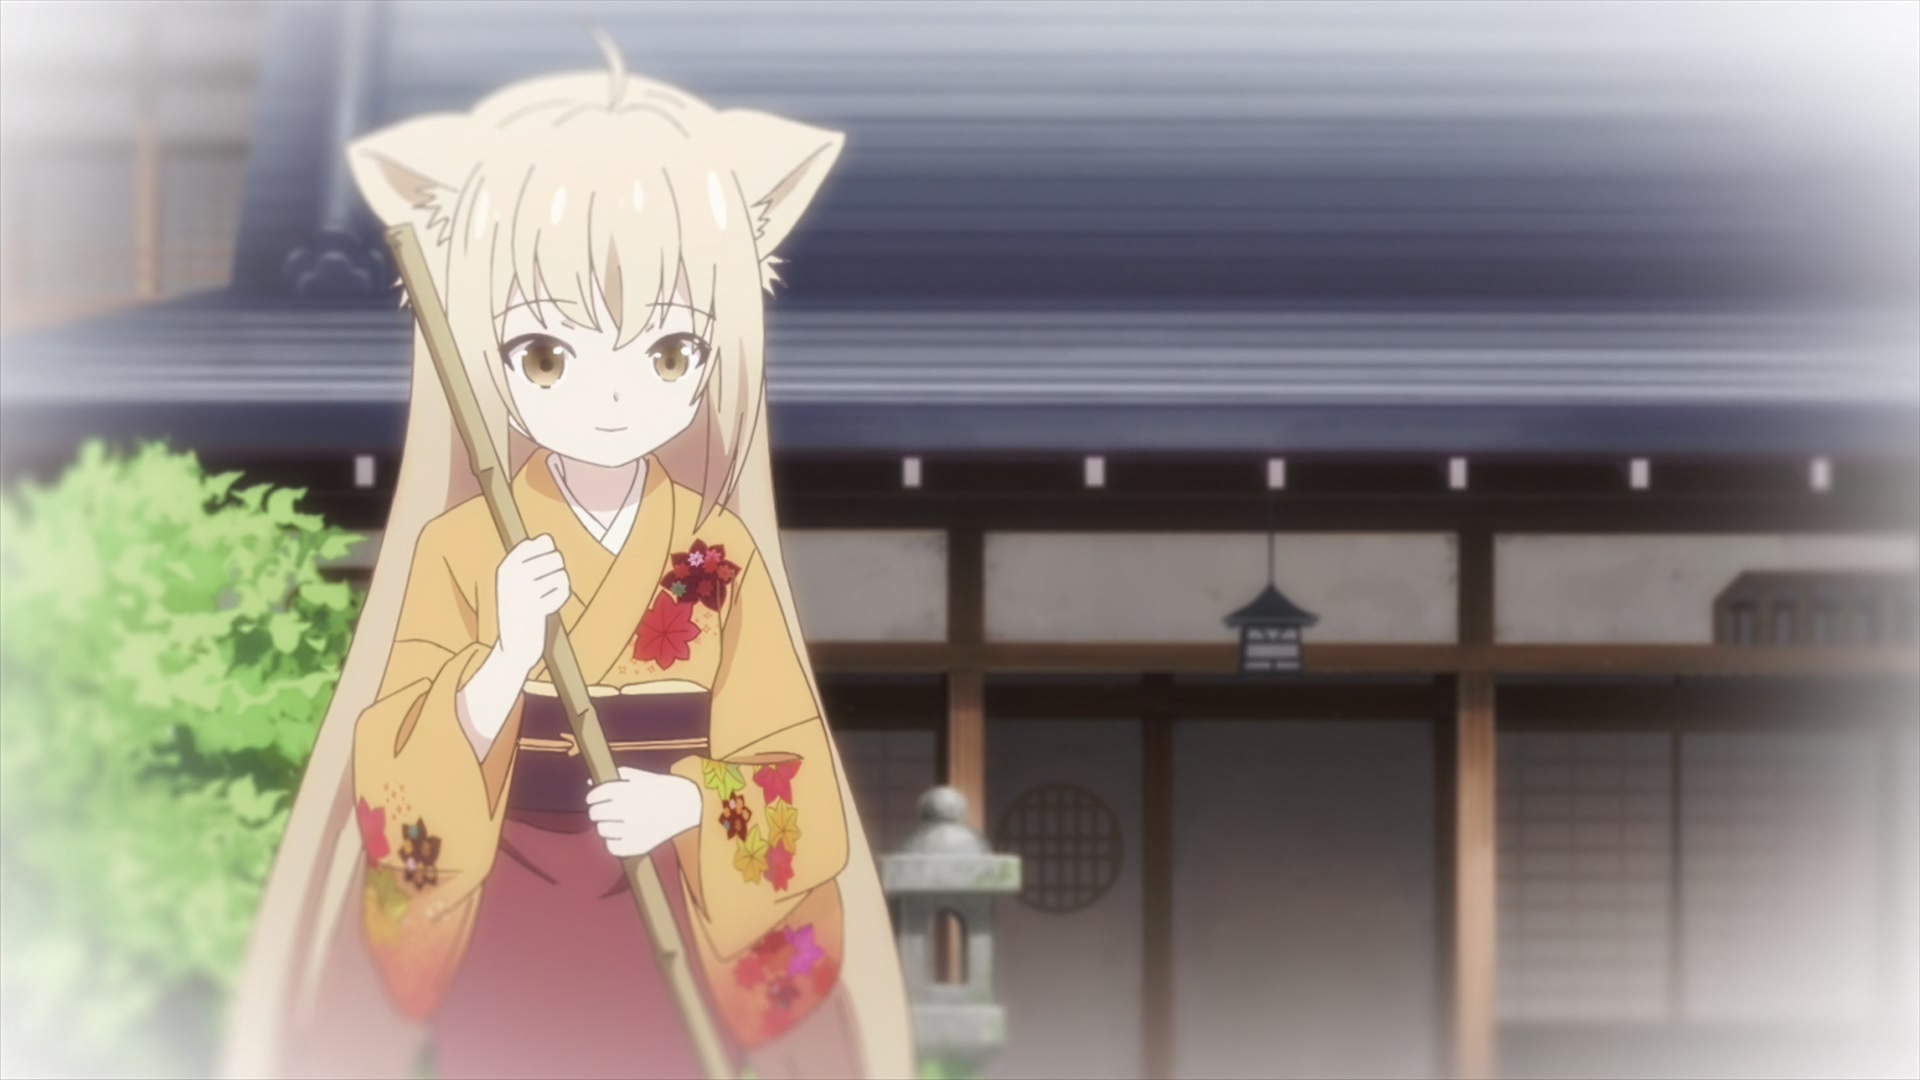柚: (218, 22, 915, 1080)
